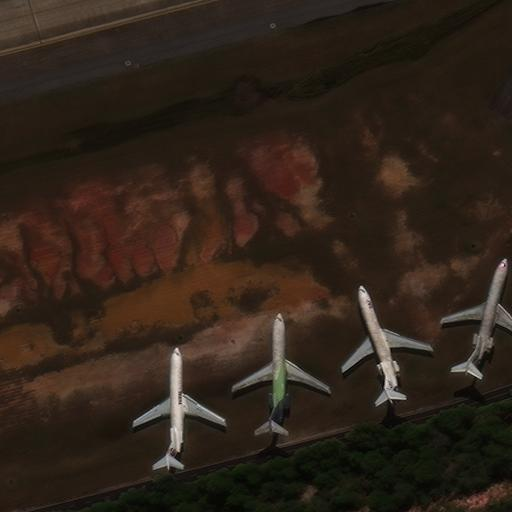Medium Civil Transport: (239, 318, 323, 428), (144, 350, 216, 466), (348, 289, 421, 399), (451, 261, 512, 371)
